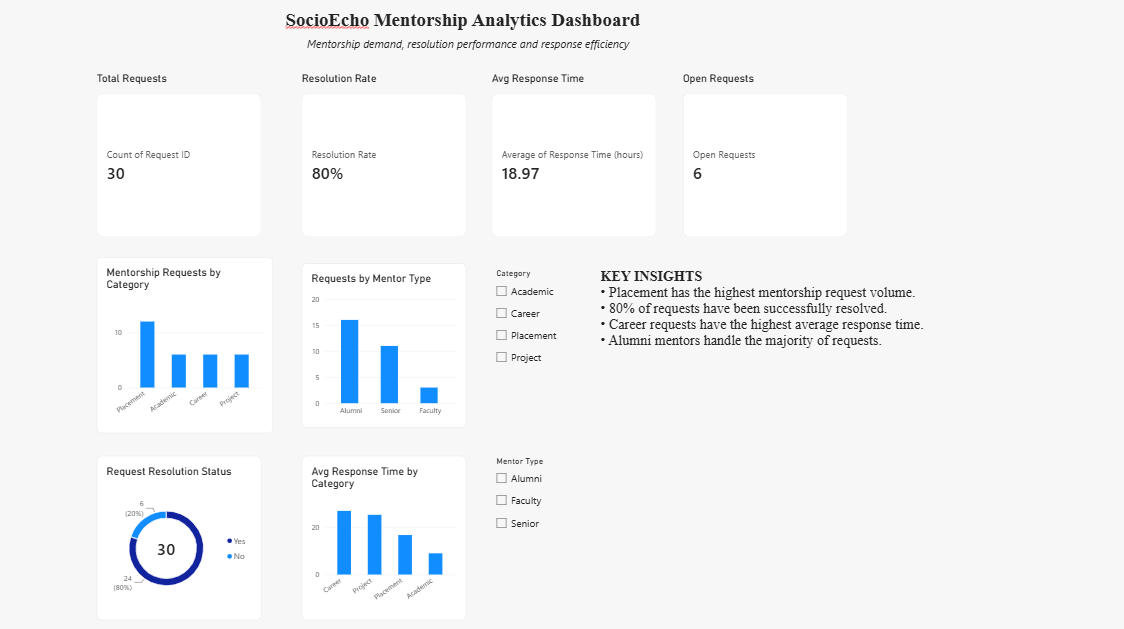

What the dashboard file says about the page in this screenshot:
{"tool":"powerbi","page":{"name":"Page 1","canvas":[1920,1080],"ordinal":0},"visuals":[{"type":"cardVisual","title":"Total Requests","fields":{"Data":["CountNonNull(socioecho_mentorship_requests_simulated.Request ID)"]},"box":[167.5,127.5,280,280],"z":0},{"type":"cardVisual","title":"Resolution Rate","fields":{"Data":["socioecho_mentorship_requests_simulated.Resolution Rate"]},"box":[517.5,127.5,280,280],"z":1000},{"type":"cardVisual","title":"Avg Response Time","fields":{"Data":["Avg(socioecho_mentorship_requests_simulated.Response Time (hours))"]},"box":[840,127.5,280,280],"z":2000},{"type":"cardVisual","title":"Open Requests","fields":{"Data":["socioecho_mentorship_requests_simulated.Open Requests"]},"box":[1165,127.5,280,280],"z":3000},{"type":"clusteredColumnChart","title":"Mentorship Requests by Category","fields":{"Category":["socioecho_mentorship_requests_simulated.Category"],"Y":["CountNonNull(socioecho_mentorship_requests_simulated.Request ID)"]},"box":[167.5,442.5,300,300],"z":4000},{"type":"clusteredColumnChart","title":"Requests by Mentor Type","fields":{"Category":["socioecho_mentorship_requests_simulated.Mentor Type"],"Y":["CountNonNull(socioecho_mentorship_requests_simulated.Request ID)"]},"box":[517.5,452.5,280,280],"z":5000},{"type":"donutChart","title":"Request Resolution Status","fields":{"Category":["socioecho_mentorship_requests_simulated.Resolved"],"Y":["CountNonNull(socioecho_mentorship_requests_simulated.Request ID)"]},"box":[167.5,780,280,280],"z":6000},{"type":"clusteredColumnChart","title":"Avg Response Time by Category","fields":{"Category":["socioecho_mentorship_requests_simulated.Category"],"Y":["Avg(socioecho_mentorship_requests_simulated.Response Time (hours))"]},"box":[517.5,780,280,280],"z":7000},{"type":"textbox","box":[490,20,630,85],"z":8000},{"type":"slicer","fields":{"Values":["socioecho_mentorship_requests_simulated.Category"]},"box":[840,462.5,280,280],"z":9000},{"type":"slicer","fields":{"Values":["socioecho_mentorship_requests_simulated.Mentor Type"]},"box":[840,780,280,280],"z":10000},{"type":"textbox","box":[1025,462.5,785,197.5],"z":10001}]}

Visuals, with their boxes in screenshot pixels (x1, y1, x2, y2), scaled from the page's 1920x1080 canvas onto the 1124x629 screenshot:
"Total Requests" cardVisual: bbox=(98, 74, 262, 237)
"Resolution Rate" cardVisual: bbox=(303, 74, 467, 237)
"Avg Response Time" cardVisual: bbox=(492, 74, 656, 237)
"Open Requests" cardVisual: bbox=(682, 74, 846, 237)
"Mentorship Requests by Category" clusteredColumnChart: bbox=(98, 258, 274, 432)
"Requests by Mentor Type" clusteredColumnChart: bbox=(303, 264, 467, 427)
"Request Resolution Status" donutChart: bbox=(98, 454, 262, 617)
"Avg Response Time by Category" clusteredColumnChart: bbox=(303, 454, 467, 617)
textbox: bbox=(287, 12, 656, 61)
slicer - socioecho_mentorship_requests_simulated.Category: bbox=(492, 269, 656, 432)
slicer - socioecho_mentorship_requests_simulated.Mentor Type: bbox=(492, 454, 656, 617)
textbox: bbox=(600, 269, 1060, 384)
